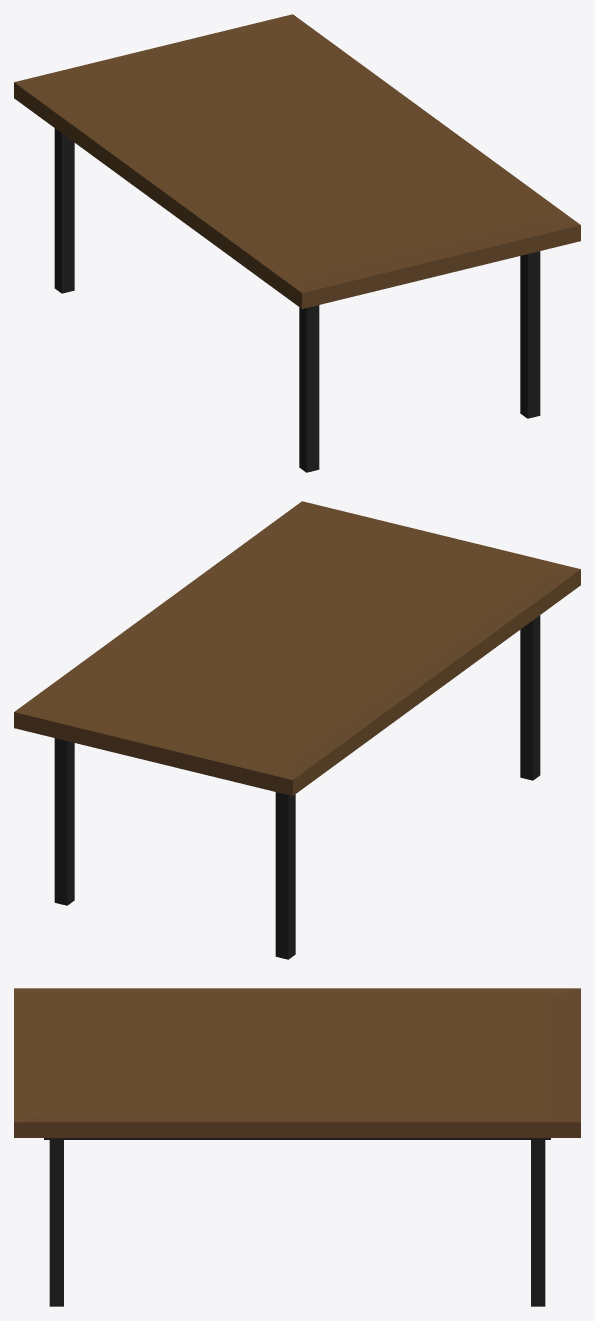
The model's file is long_table(1).fbx.
The picture shows the model from 3 angles, top to bottom: view 1: azimuth 30°, elevation 25°; view 2: azimuth 150°, elevation 25°; view 3: azimuth 270°, elevation 25°; orthographic projection.
Visible parts, largest first — view 1: pCube6; view 2: pCube6; view 3: pCube6.
Boxes of the visible parts, left/top/right/bottom form: pCube6: left=14, top=14, right=580, bottom=472; pCube6: left=14, top=501, right=580, bottom=959; pCube6: left=14, top=988, right=580, bottom=1306.
Size of the model in its own units: 7.24 by 4.92 by 12.96.
